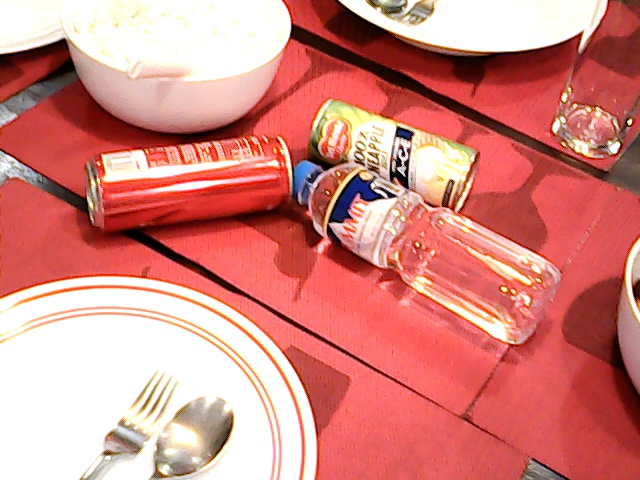Cola: (79, 132, 296, 225)
Pine Juice: (297, 91, 463, 167)
Summit Water: (275, 165, 407, 263)
